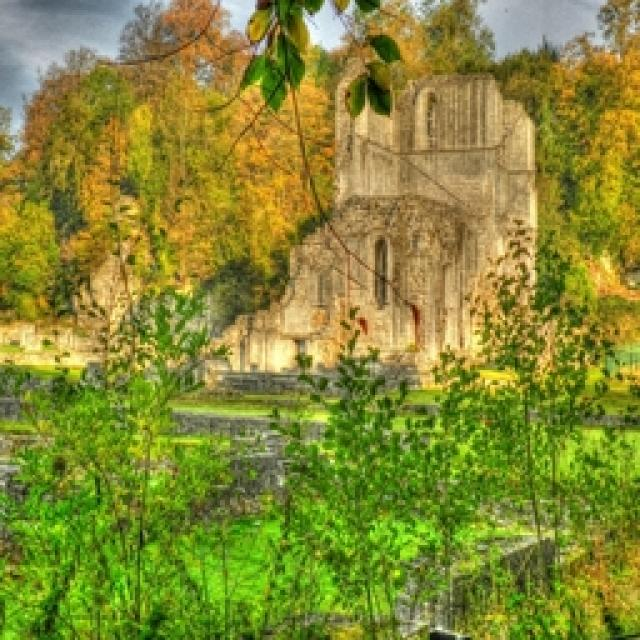Abbey: (224, 51, 549, 389)
